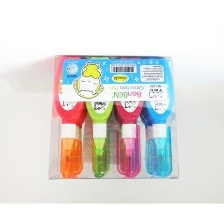correction_fluid: (109, 54, 148, 179), (81, 54, 117, 179), (141, 55, 177, 178), (52, 54, 86, 180)
plastic_box: (44, 50, 182, 183)
